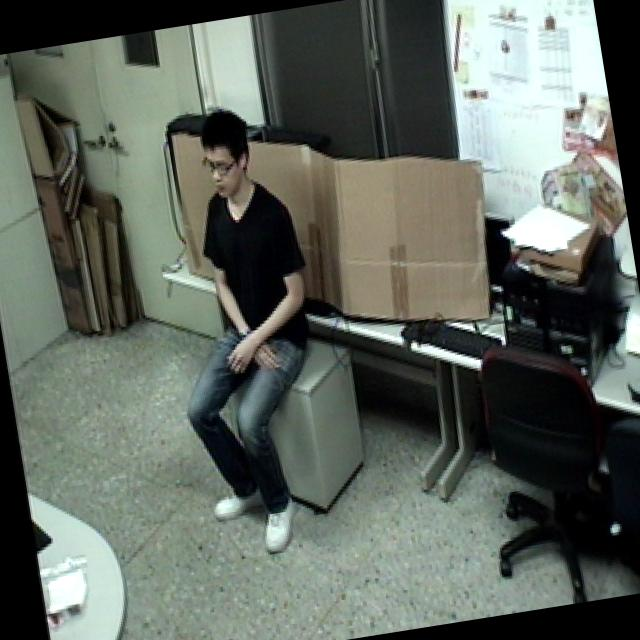sit: (132, 95, 354, 572)
